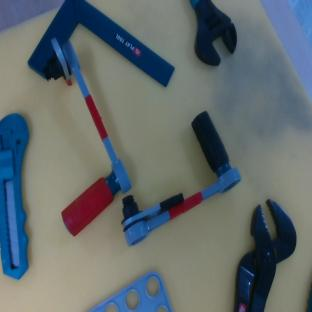non_pass: (89, 110, 246, 247)
pass: (0, 33, 141, 237)
